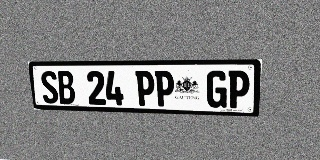2: (86, 71, 106, 105)
4: (104, 71, 124, 105)
B: (56, 71, 76, 104)
G: (206, 71, 228, 108)
P: (227, 71, 250, 109), (135, 71, 155, 106), (155, 71, 174, 107)
S: (40, 71, 59, 104)
